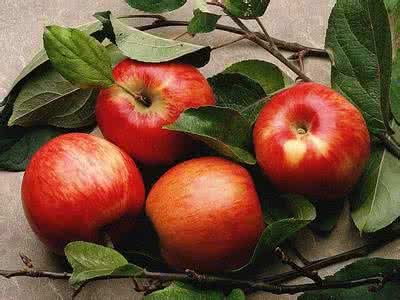apple: (135, 157, 267, 271), (15, 132, 146, 246), (253, 75, 368, 196), (90, 47, 211, 159)
